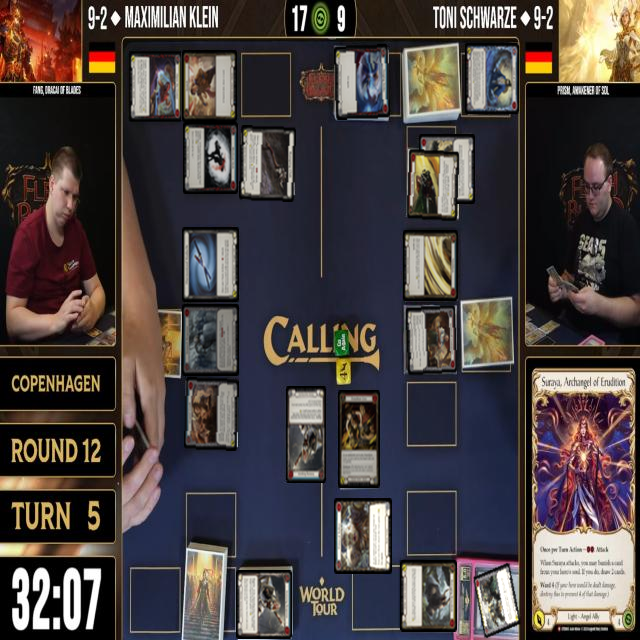Barraging_Brawnhide_WTR177: (400, 560, 457, 632)
Blackout_Kick_WTR091: (183, 122, 239, 194)
Buckling_Blow_WTR058: (473, 562, 521, 640)
Cranial_Crush_WTR045: (184, 378, 240, 452)
Demolition_Crew_WTR179: (338, 391, 381, 488)
Disable_WTR050: (420, 134, 476, 204)
Harmonized_Kodachi_WTR078: (182, 228, 240, 302)
Ironsong_Response_WTR134: (286, 386, 326, 484), (237, 570, 293, 640)
Lord_of_Wind_WTR081: (466, 44, 520, 114)
Nimble_Strike_WTR185: (406, 148, 461, 222)
Nimblism_WTR220: (403, 230, 459, 302)
Open_the_Center_WTR096: (128, 50, 183, 124)
Primeval_Bellow_WTR037: (334, 498, 392, 574)
Romping_Club_WTR003: (240, 125, 296, 202)
Snatch_WTR168: (182, 51, 238, 122)
Staunch_Response_WTR053: (183, 304, 240, 376)
Stonewall_Confidence_WTR072: (405, 304, 458, 376)
Surging_Strike_WTR109: (334, 44, 391, 120)
